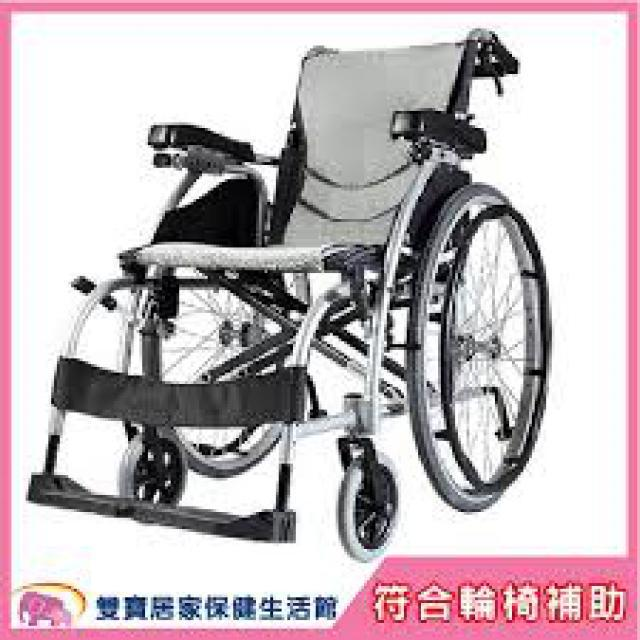wheelchair: (17, 19, 549, 560)
